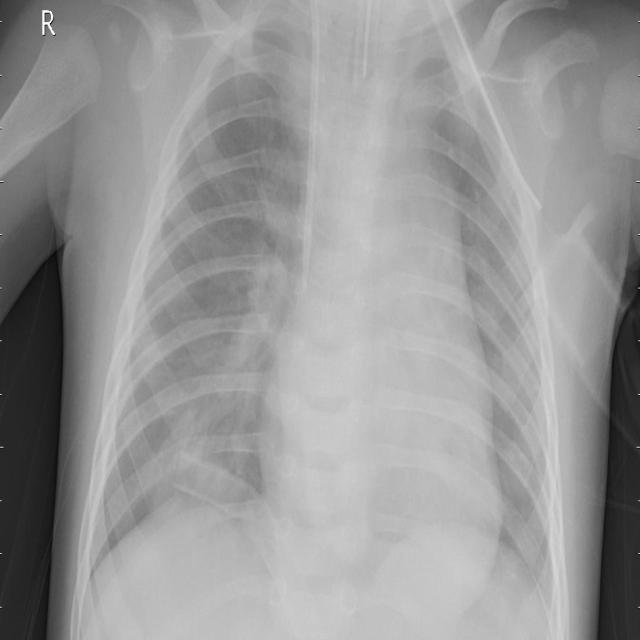low-pneumonia: (156, 26, 312, 505), (416, 65, 479, 185)
